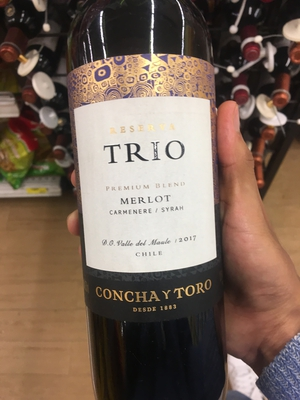trio merlot: (64, 22, 237, 366)
